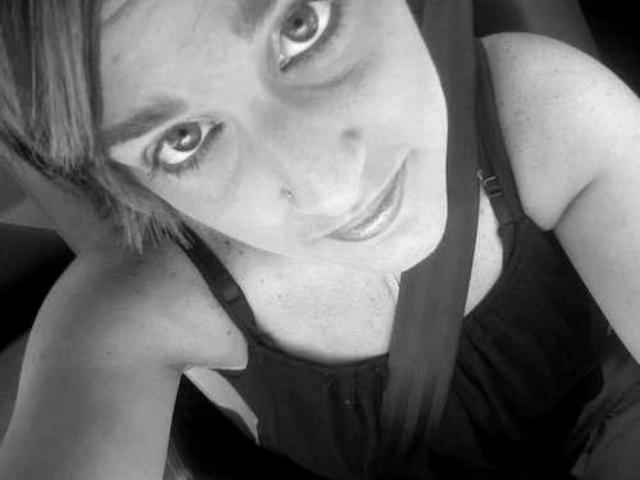SafeDriving: (112, 109, 241, 189), (262, 1, 347, 84)
Seatbelt: (368, 0, 488, 452)
